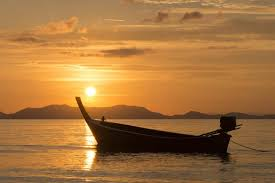boat: (75, 96, 238, 160)
